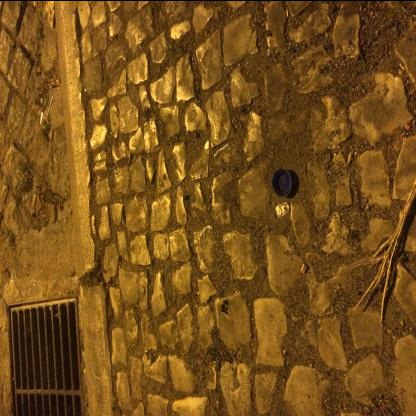plastik: (272, 168, 292, 197)
